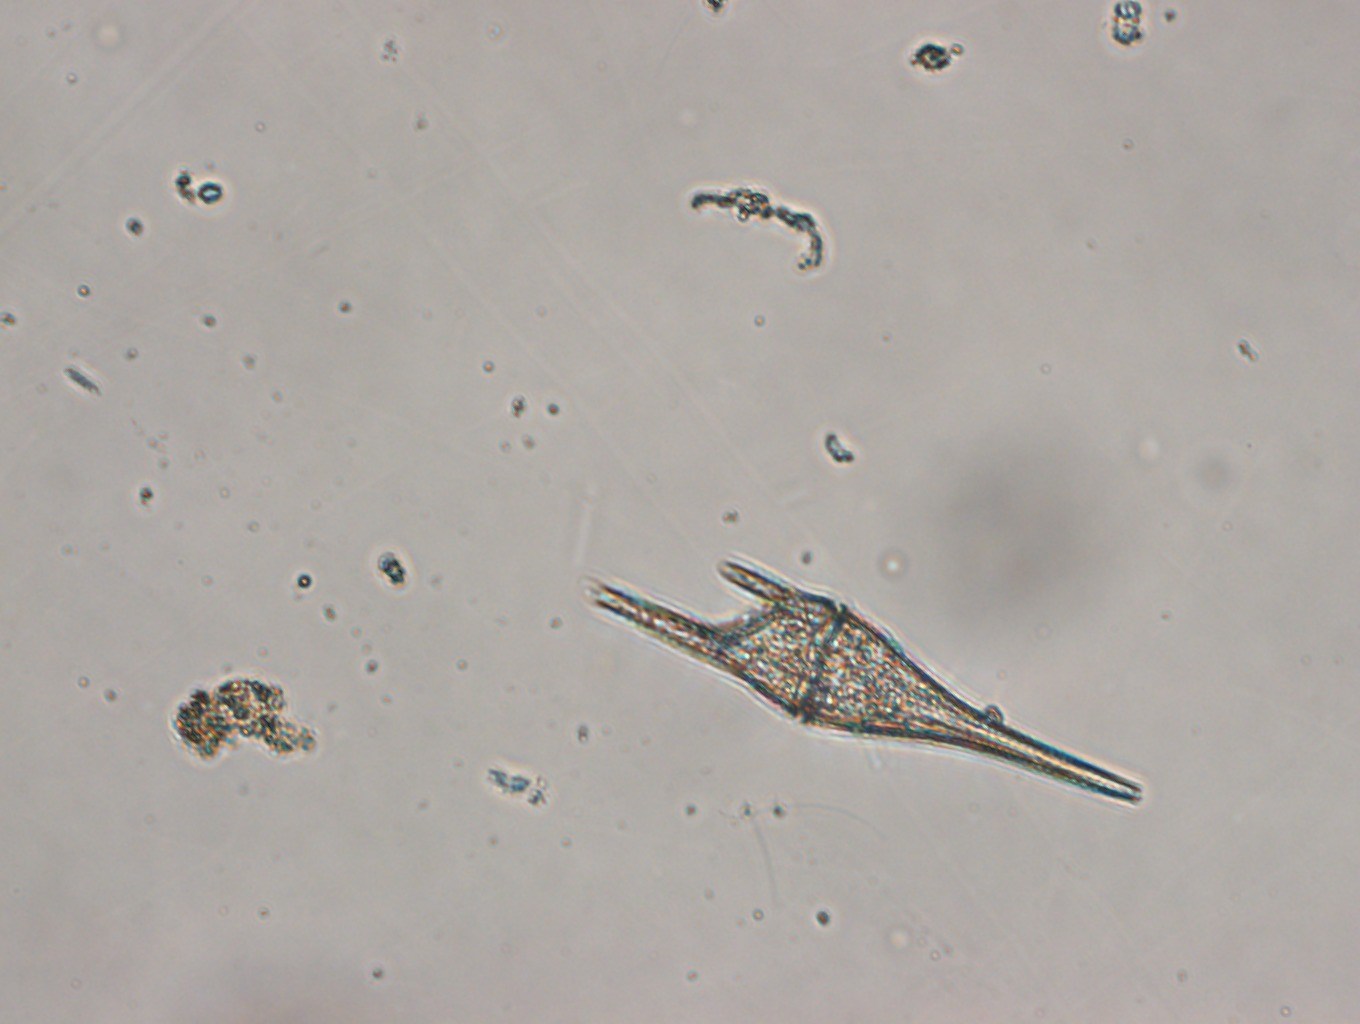ceratium furca: (582, 549, 1145, 803)
